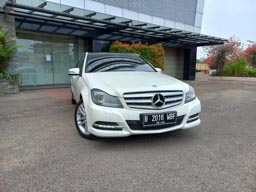plat: (143, 112, 175, 121)
